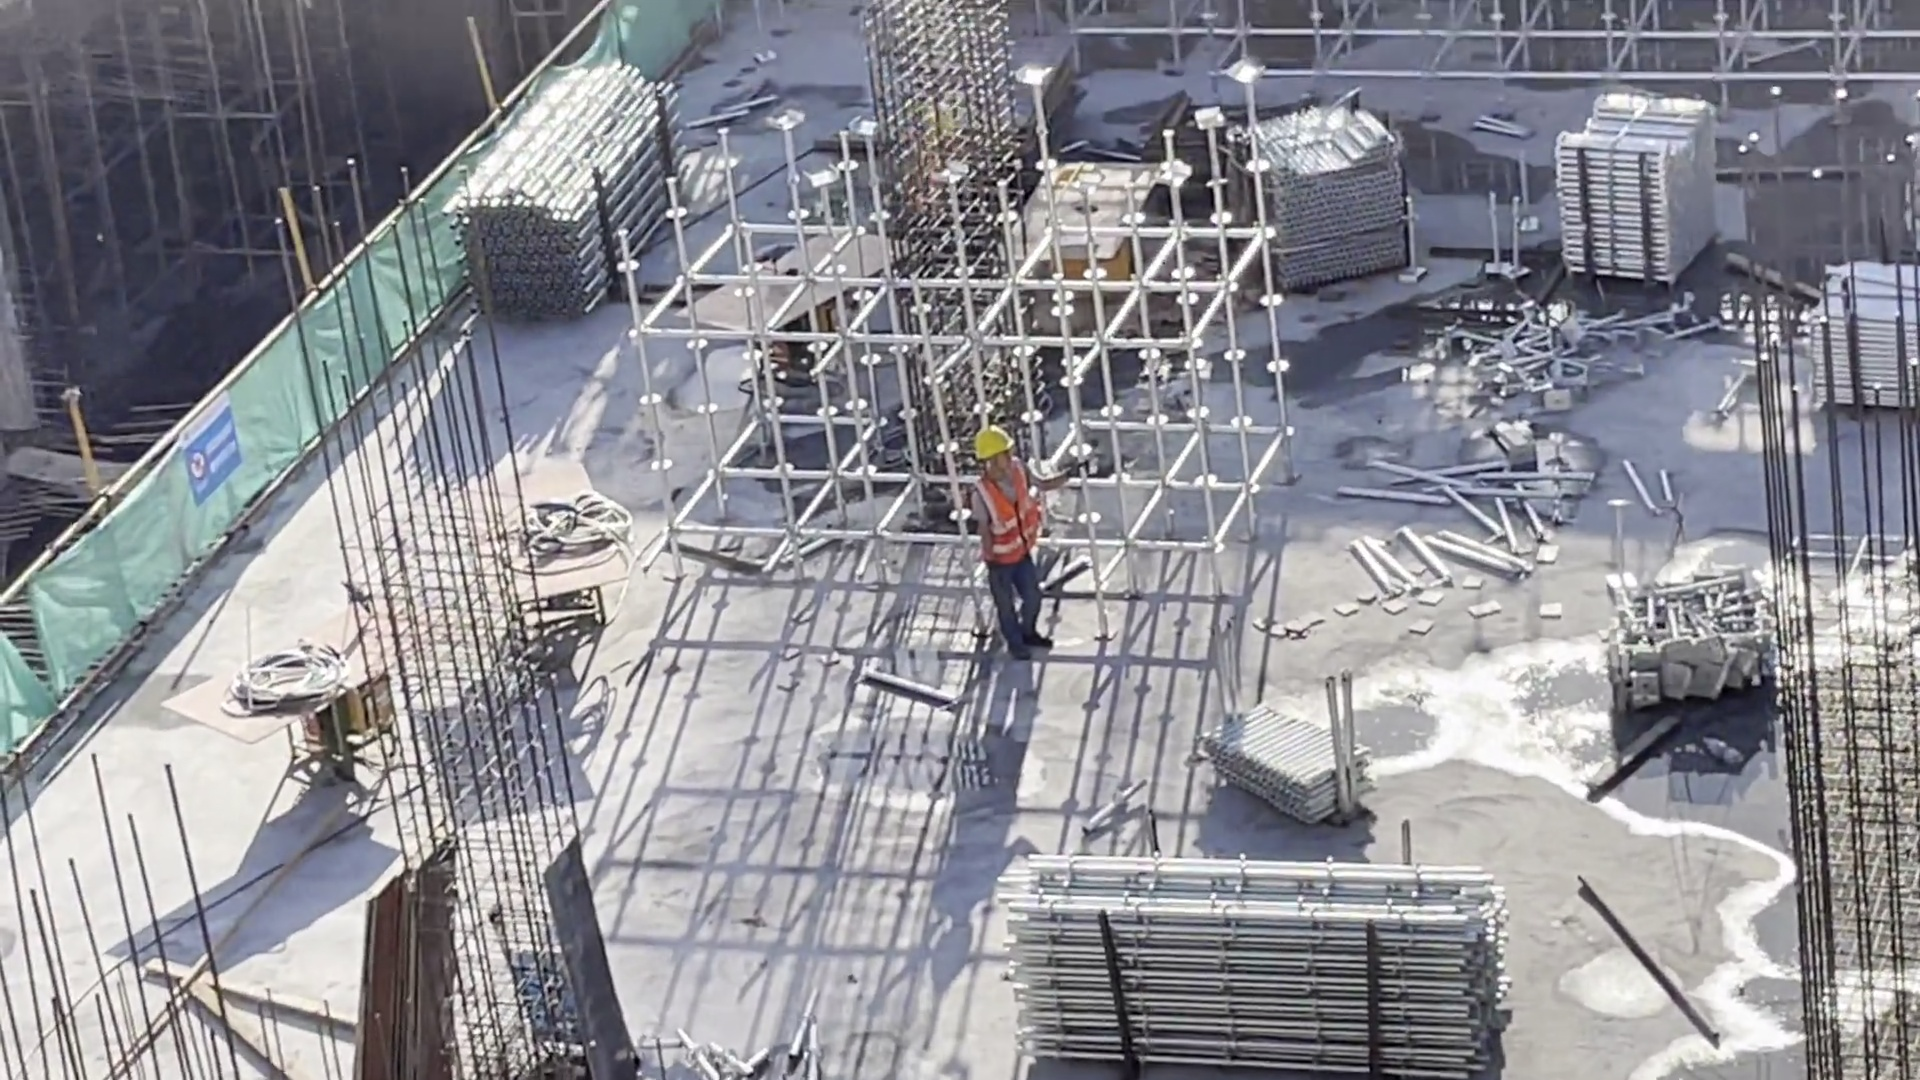board: (354, 850, 464, 1078)
cutter: (163, 589, 440, 783), (437, 458, 641, 674), (674, 224, 908, 401), (978, 161, 1173, 313)
helmet: (974, 428, 1014, 469)
person: (960, 416, 1064, 653)
scaffold: (982, 843, 1530, 1070), (462, 54, 683, 303), (1225, 105, 1419, 293), (1540, 92, 1720, 293), (1596, 560, 1786, 717), (1204, 694, 1381, 832), (1783, 251, 1920, 419), (1453, 308, 1620, 418)
slogan: (178, 382, 254, 509)
vest: (972, 463, 1044, 565)
